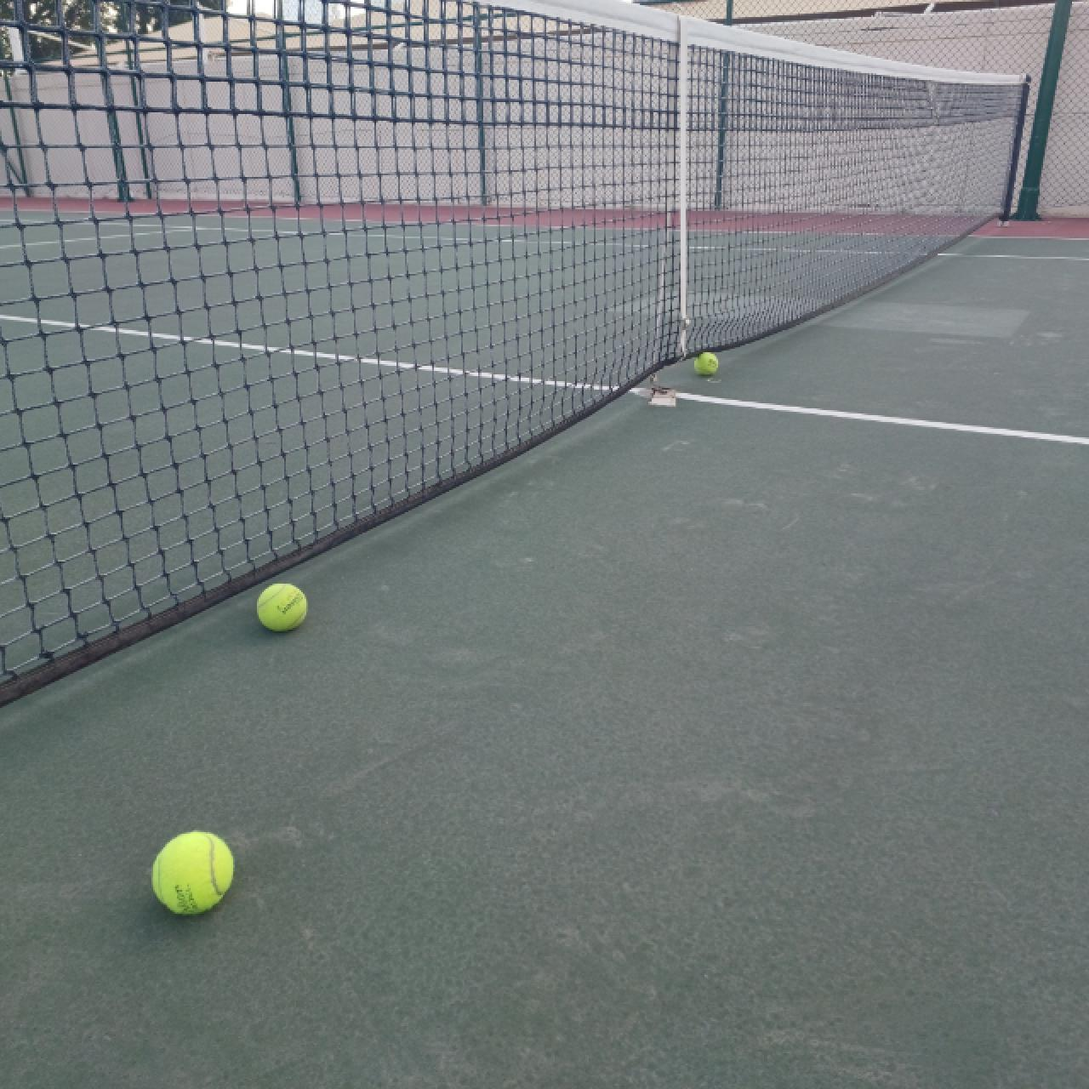tennis-ball: (150, 829, 236, 916), (256, 581, 311, 634), (693, 352, 721, 378)
